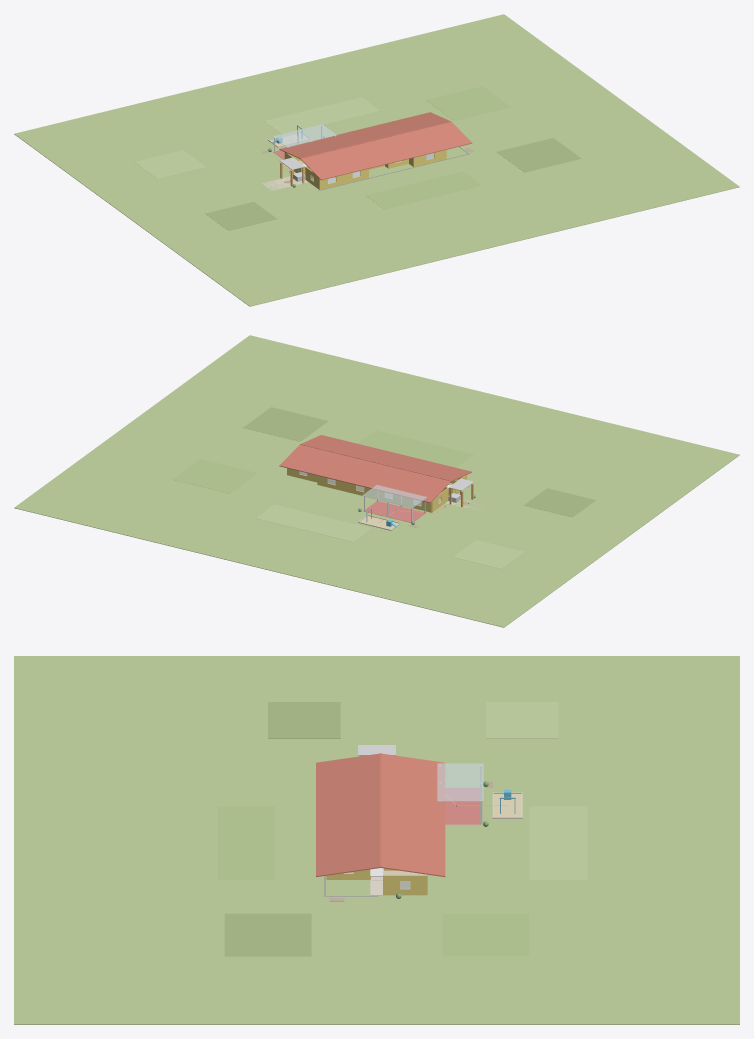
File: EMERALD_SCHOOL.glb
3 renders of one model, top to bottom at view 1: azimuth 30°, elevation 25°; view 2: azimuth 150°, elevation 25°; view 3: azimuth 270°, elevation 25°, orthographic. The views are drawn at different scales.
Visible parts, largest first — view 1: SITE_TERRAIN, ROOF_SOUTH, ROOF_NORTH, P06_GRASS_PATCH_06, P06_GRASS_PATCH_05, P06_GRASS_PATCH_04, P06_GRASS_PATCH_03, P06_GRASS_PATCH_01, P06_GRASS_PATCH_02, ROOF_PATIO; view 2: SITE_TERRAIN, ROOF_NORTH, ROOF_SOUTH, P06_GRASS_PATCH_05, P06_GRASS_PATCH_06, P06_GRASS_PATCH_03, P06_GRASS_PATCH_04, P06_GRASS_PATCH_02, P06_GRASS_PATCH_01, ROOF_PATIO, FLOOR_PATIO; view 3: SITE_TERRAIN, ROOF_NORTH, ROOF_SOUTH, P06_GRASS_PATCH_05, P06_GRASS_PATCH_06, P06_GRASS_PATCH_03, P06_GRASS_PATCH_04, P06_GRASS_PATCH_01, P06_GRASS_PATCH_02, ROOF_PATIO, FLOOR_PATIO, PLAY_SAND.
Part boxes in pixels (left/top/right/bottom): SITE_TERRAIN: left=14, top=14, right=739, bottom=306; ROOF_SOUTH: left=300, top=122, right=472, bottom=180; ROOF_NORTH: left=279, top=112, right=450, bottom=158; P06_GRASS_PATCH_06: left=365, top=171, right=481, bottom=208; P06_GRASS_PATCH_05: left=264, top=97, right=379, bottom=134; P06_GRASS_PATCH_04: left=496, top=138, right=581, bottom=172; P06_GRASS_PATCH_03: left=426, top=86, right=510, bottom=120; P06_GRASS_PATCH_01: left=134, top=150, right=206, bottom=178; P06_GRASS_PATCH_02: left=205, top=202, right=276, bottom=230; ROOF_PATIO: left=272, top=124, right=337, bottom=147; SITE_TERRAIN: left=14, top=335, right=739, bottom=627; ROOF_NORTH: left=279, top=444, right=451, bottom=502; ROOF_SOUTH: left=301, top=435, right=471, bottom=481; P06_GRASS_PATCH_05: left=256, top=504, right=371, bottom=542; P06_GRASS_PATCH_06: left=358, top=430, right=473, bottom=467; P06_GRASS_PATCH_03: left=172, top=459, right=257, bottom=493; P06_GRASS_PATCH_04: left=243, top=407, right=327, bottom=441; P06_GRASS_PATCH_02: left=524, top=488, right=595, bottom=517; P06_GRASS_PATCH_01: left=453, top=540, right=524, bottom=569; ROOF_PATIO: left=362, top=484, right=427, bottom=508; FLOOR_PATIO: left=363, top=501, right=425, bottom=522; SITE_TERRAIN: left=14, top=656, right=739, bottom=1024; ROOF_NORTH: left=380, top=753, right=445, bottom=876; ROOF_SOUTH: left=316, top=753, right=380, bottom=876; P06_GRASS_PATCH_05: left=529, top=806, right=587, bottom=879; P06_GRASS_PATCH_06: left=217, top=806, right=275, bottom=879; P06_GRASS_PATCH_03: left=442, top=913, right=529, bottom=956; P06_GRASS_PATCH_04: left=224, top=913, right=311, bottom=956; P06_GRASS_PATCH_01: left=486, top=702, right=558, bottom=738; P06_GRASS_PATCH_02: left=268, top=702, right=340, bottom=738; ROOF_PATIO: left=437, top=763, right=483, bottom=801; FLOOR_PATIO: left=445, top=788, right=482, bottom=824; PLAY_SAND: left=493, top=794, right=521, bottom=816.
Size of what is drawn, in the model's own units: 120 by 5.55 by 100.
